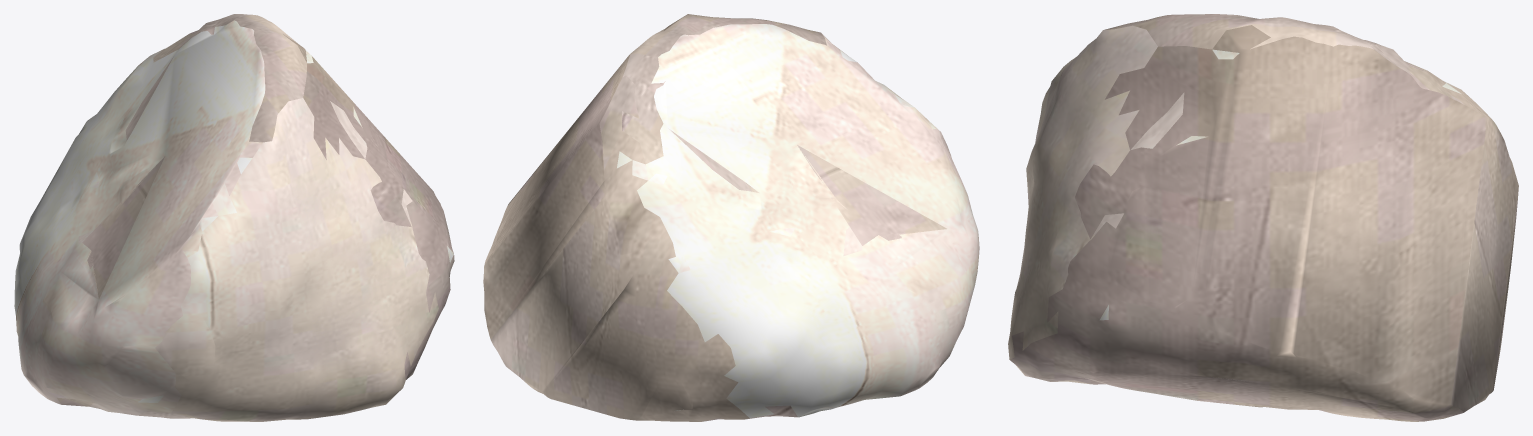
The model's file is ruinC.fbx.
3 renders of one model, left to right at view 1: azimuth 30°, elevation 25°; view 2: azimuth 150°, elevation 25°; view 3: azimuth 270°, elevation 25°, orthographic. The views are drawn at different scales.
Visible parts, largest first — view 1: Box046; view 2: Box046; view 3: Box046.
Part boxes in pixels (x1,y1,x2,y2): Box046: (14,14,454,421); Box046: (483,14,979,421); Box046: (1008,14,1518,421).
Bounding box in the file's own units: 169 × 120 × 157.
